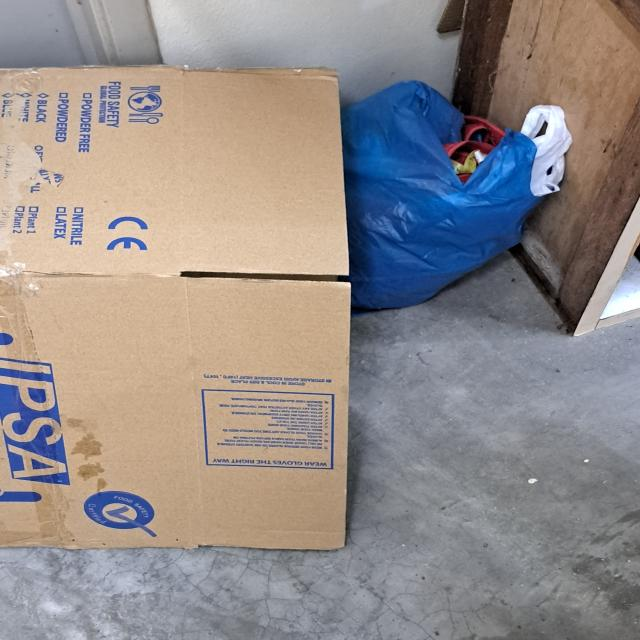cardboard: (0, 68, 350, 551)
plastic bag: (341, 79, 573, 314)
